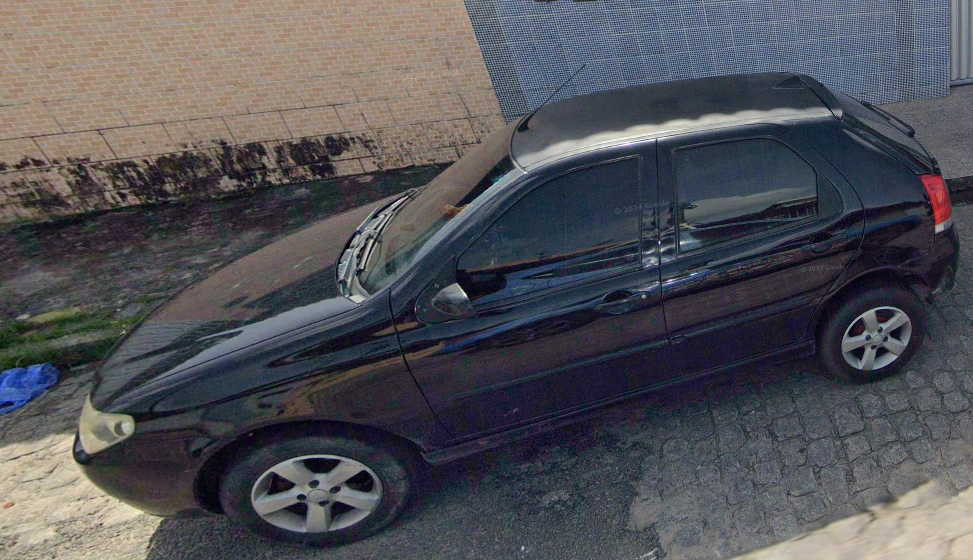car: (78, 73, 960, 537)
